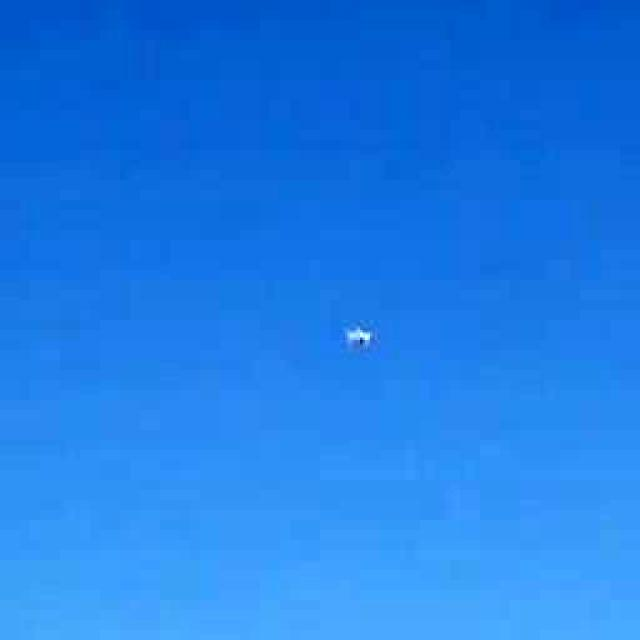bird: (312, 281, 408, 391)
